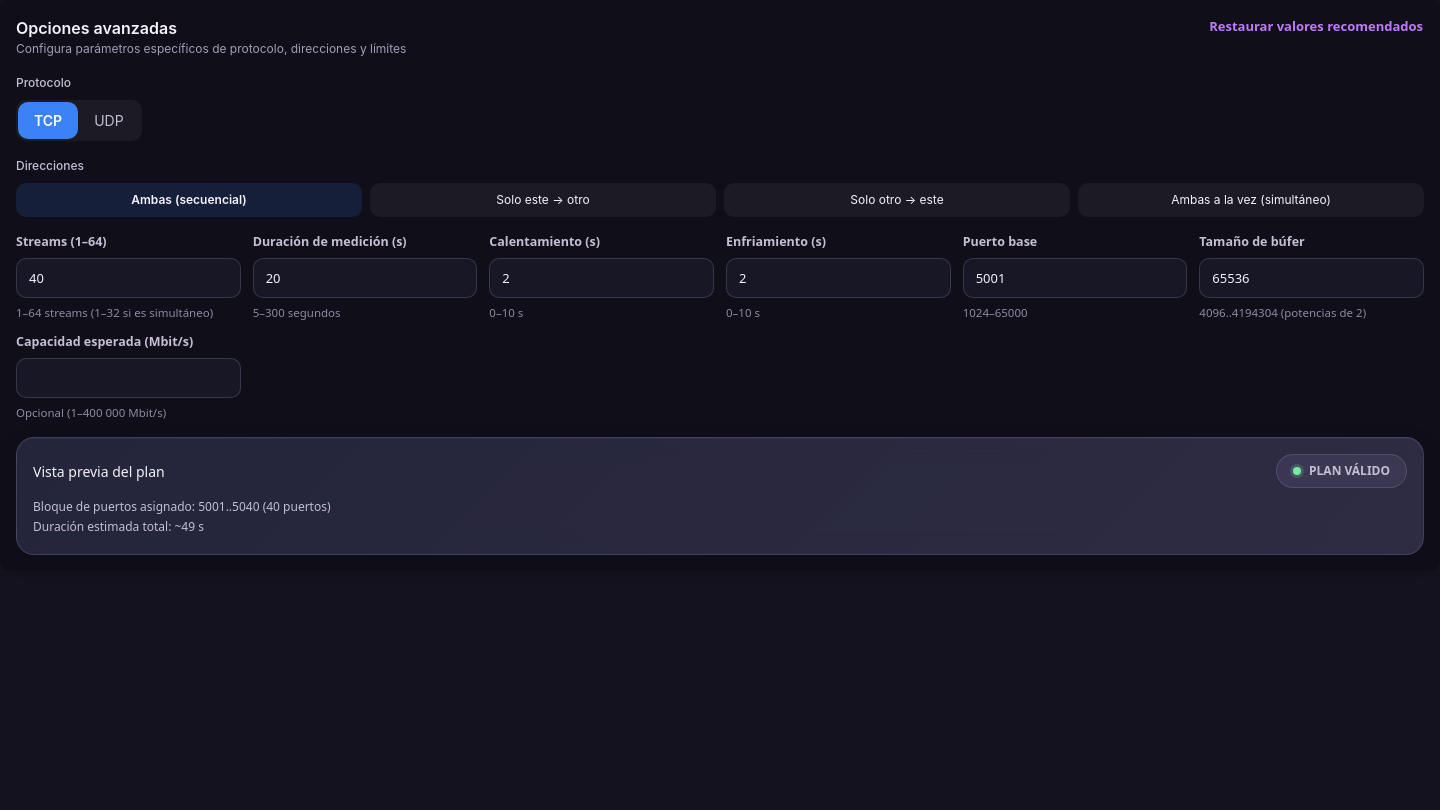
T092 - AdvancedPlan UI Component Tests (US5) › ajusta y valida límites en modo simultáneo (máximo 32 streams por sentido)
Cambiar a "Ambas a la vez" (simultáneo)
Click the radio button labelled "Ambas a la vez (simultáneo)" at x=1251, y=200, box x1=1078 y1=183 x2=1424 y2=217
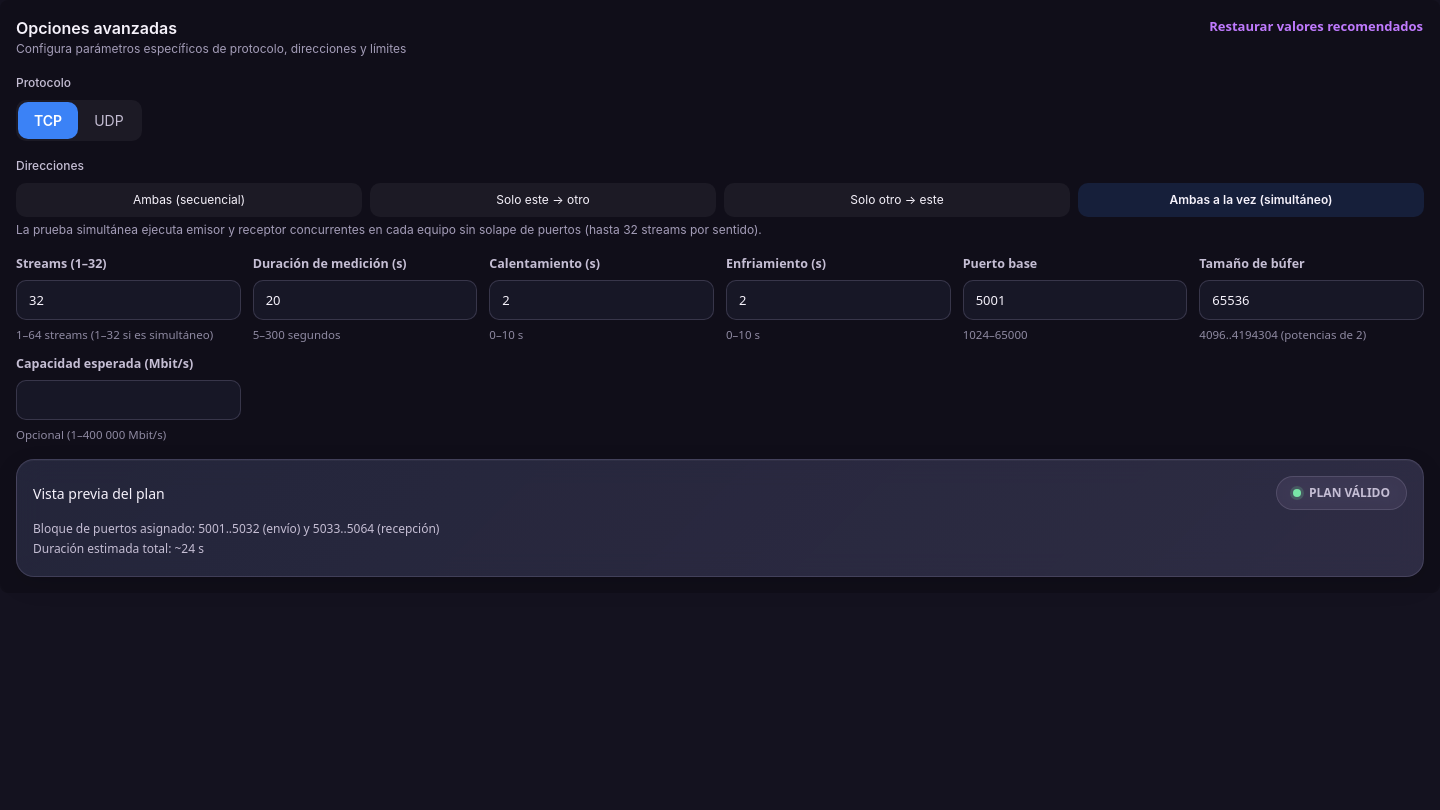
Expected: the text "PLAN VÁLIDO" is shown, x1=1309 y1=484 x2=1390 y2=502
Result: the text "5001..5032 (envío) y 5033..5064 (recepción)" is shown at x1=33 y1=520 x2=439 y2=537
